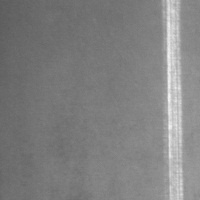scratches: (160, 1, 188, 200)
